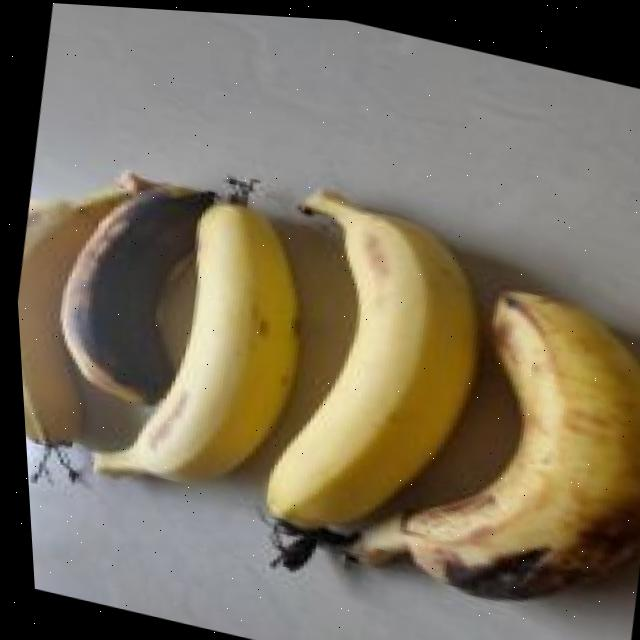Wet: (308, 243, 640, 628), (28, 151, 225, 417)
